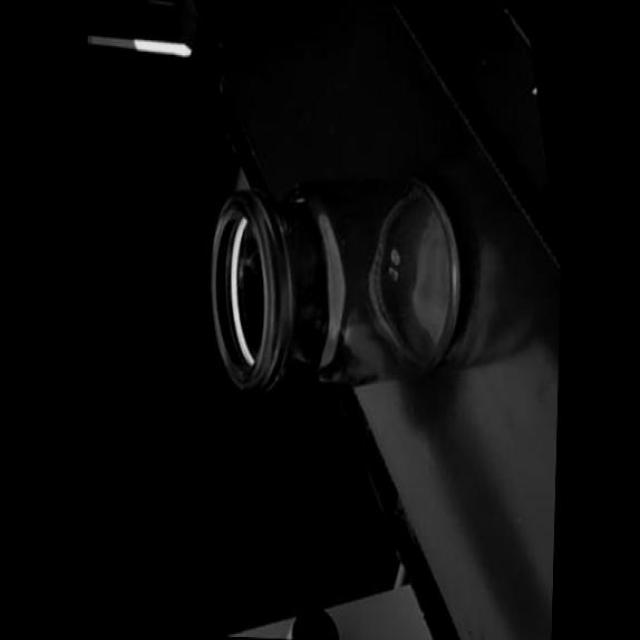defect: (293, 193, 306, 204)
glass: (188, 127, 482, 437)
